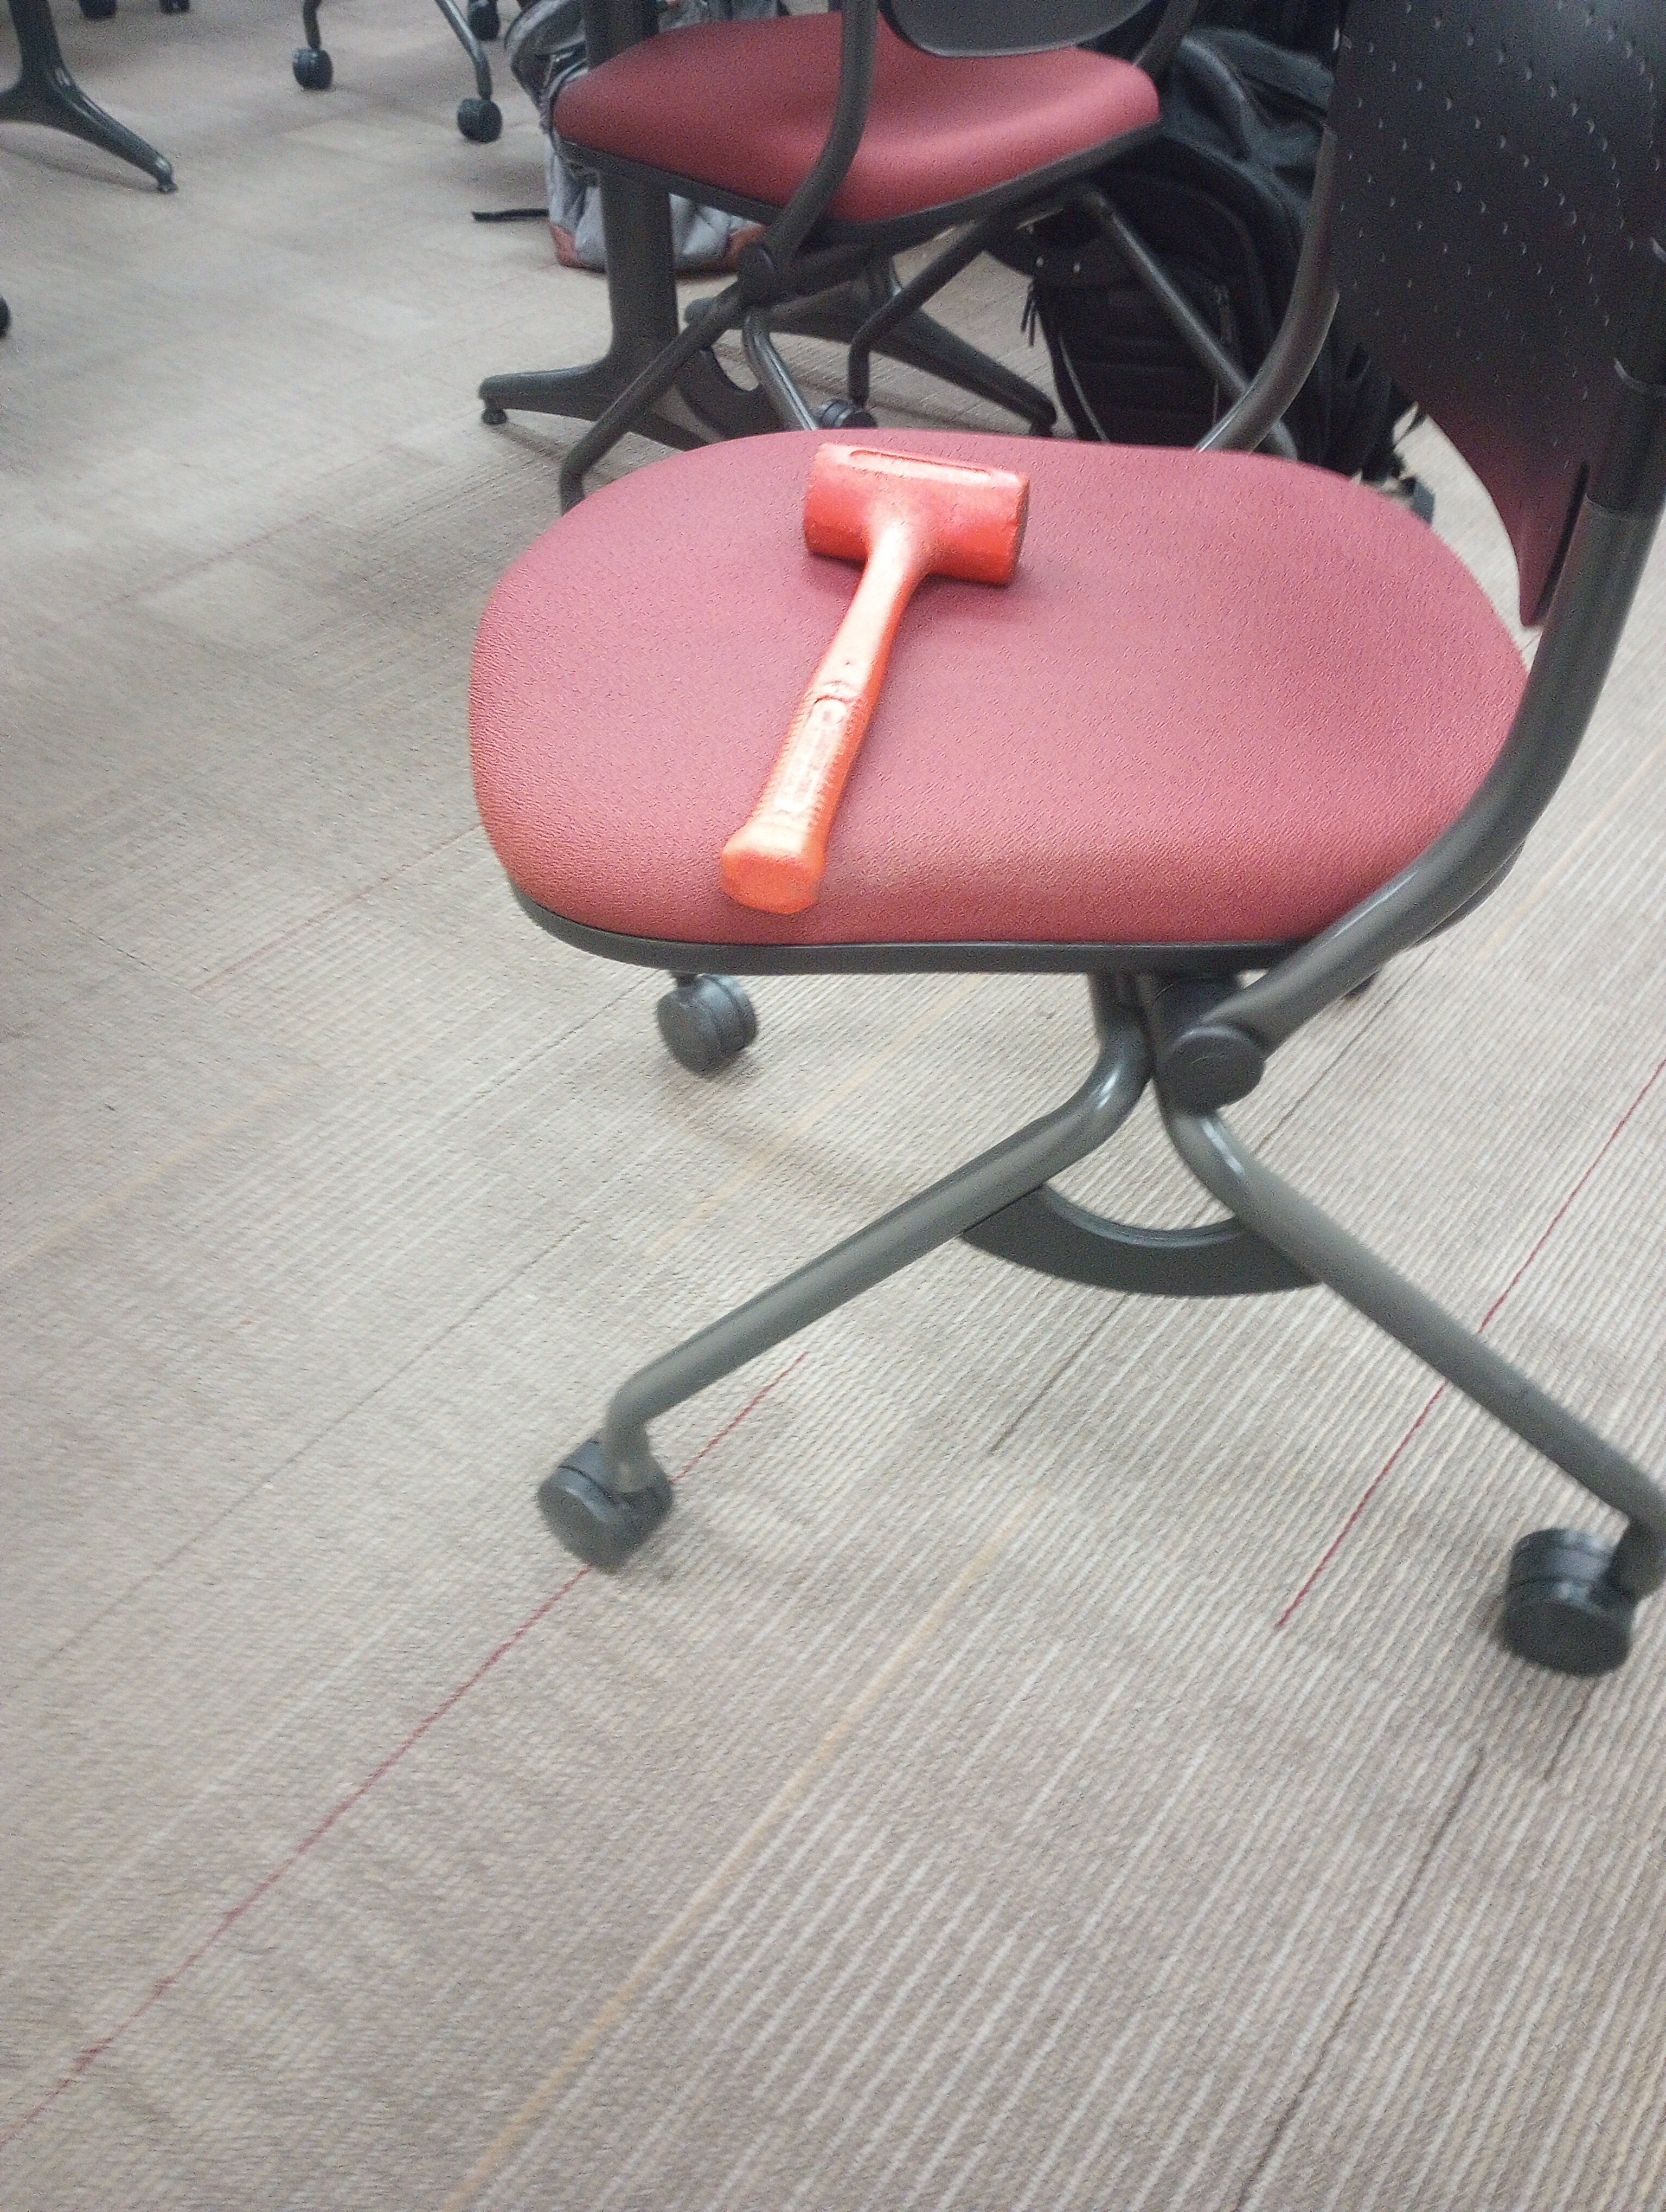bottle: (716, 432, 1034, 927)
